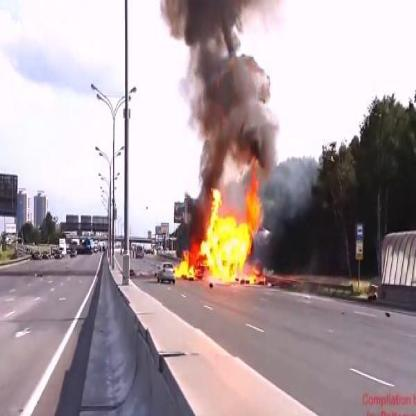fire: (172, 168, 269, 286)
